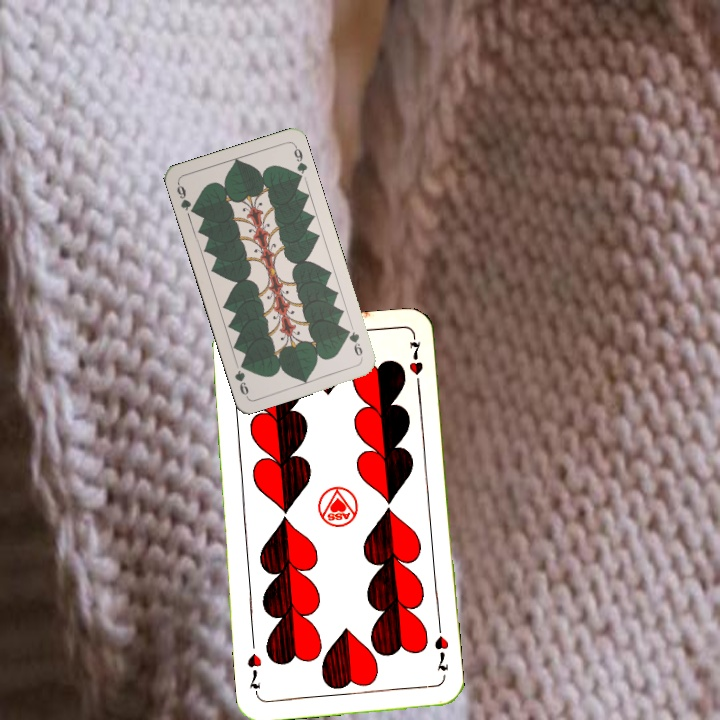G9: (173, 179, 199, 216), (342, 325, 365, 361)
H7: (430, 631, 452, 674)
